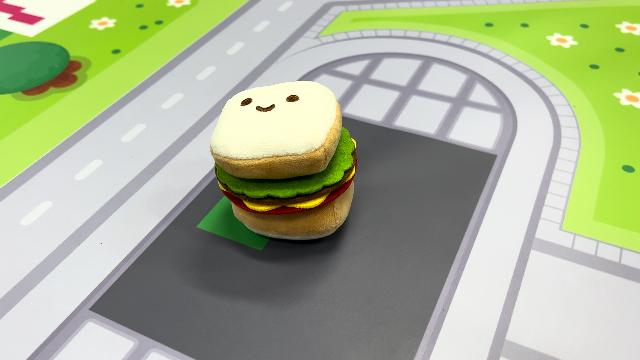sandwich: (208, 78, 360, 242)
